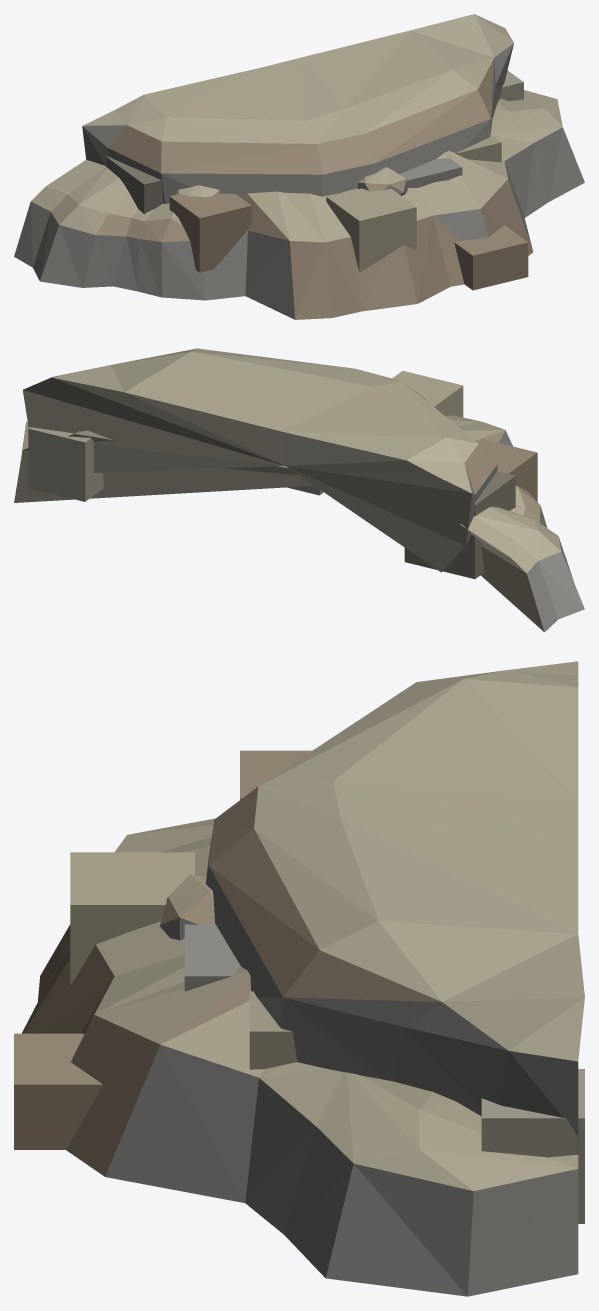
File: hill_half_01c.glb
3 views of the same model, one above another, from view 1: azimuth 30°, elevation 25°; view 2: azimuth 150°, elevation 25°; view 3: azimuth 270°, elevation 25° (orthographic). The views are drawn at different scales.
Visible parts, largest first — view 1: mapa.terreno.colina.env_hill_half_01c; view 2: mapa.terreno.colina.env_hill_half_01c; view 3: mapa.terreno.colina.env_hill_half_01c.
Part boxes in pixels (x1,y1,x2,y2): mapa.terreno.colina.env_hill_half_01c: (14, 14, 584, 319); mapa.terreno.colina.env_hill_half_01c: (14, 348, 584, 632); mapa.terreno.colina.env_hill_half_01c: (14, 661, 584, 1296).
Size of the model in its own units: 19.06 by 4.52 by 9.42.
